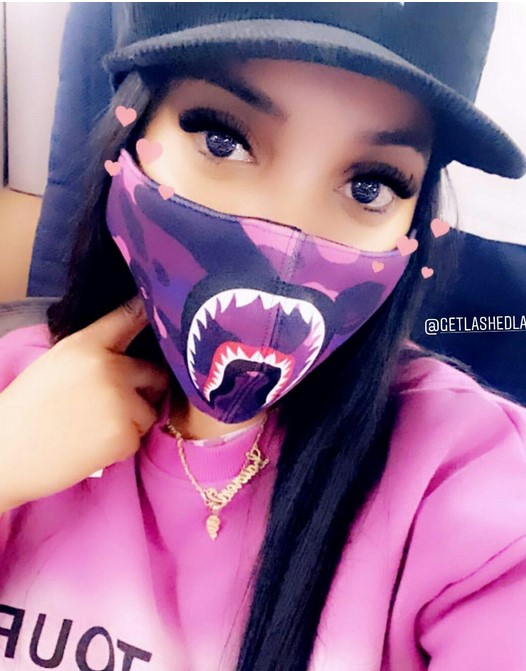face_with_mask: (82, 8, 467, 425)
